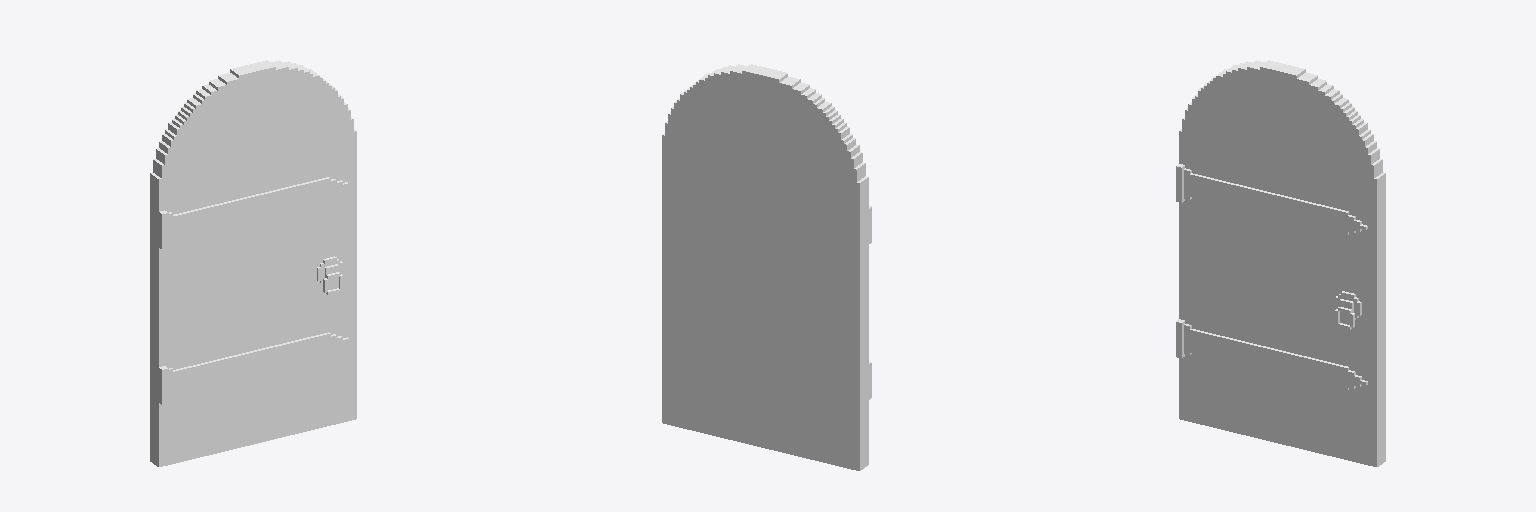
The model's file is Door.obj.
The picture shows the model from 3 angles: view 1: azimuth 30°, elevation 25°; view 2: azimuth 150°, elevation 25°; view 3: azimuth 330°, elevation 25°; orthographic projection.
Parts seen in each view (by area): view 1: Door_-7; view 2: Door_-7; view 3: Door_-7.
Part boxes in pixels (x1,y1,x2,y2): Door_-7: (150,60,356,466); Door_-7: (662,64,871,470); Door_-7: (1176,60,1385,466).
Size of the model in its own units: 1 by 1.8 by 0.125.